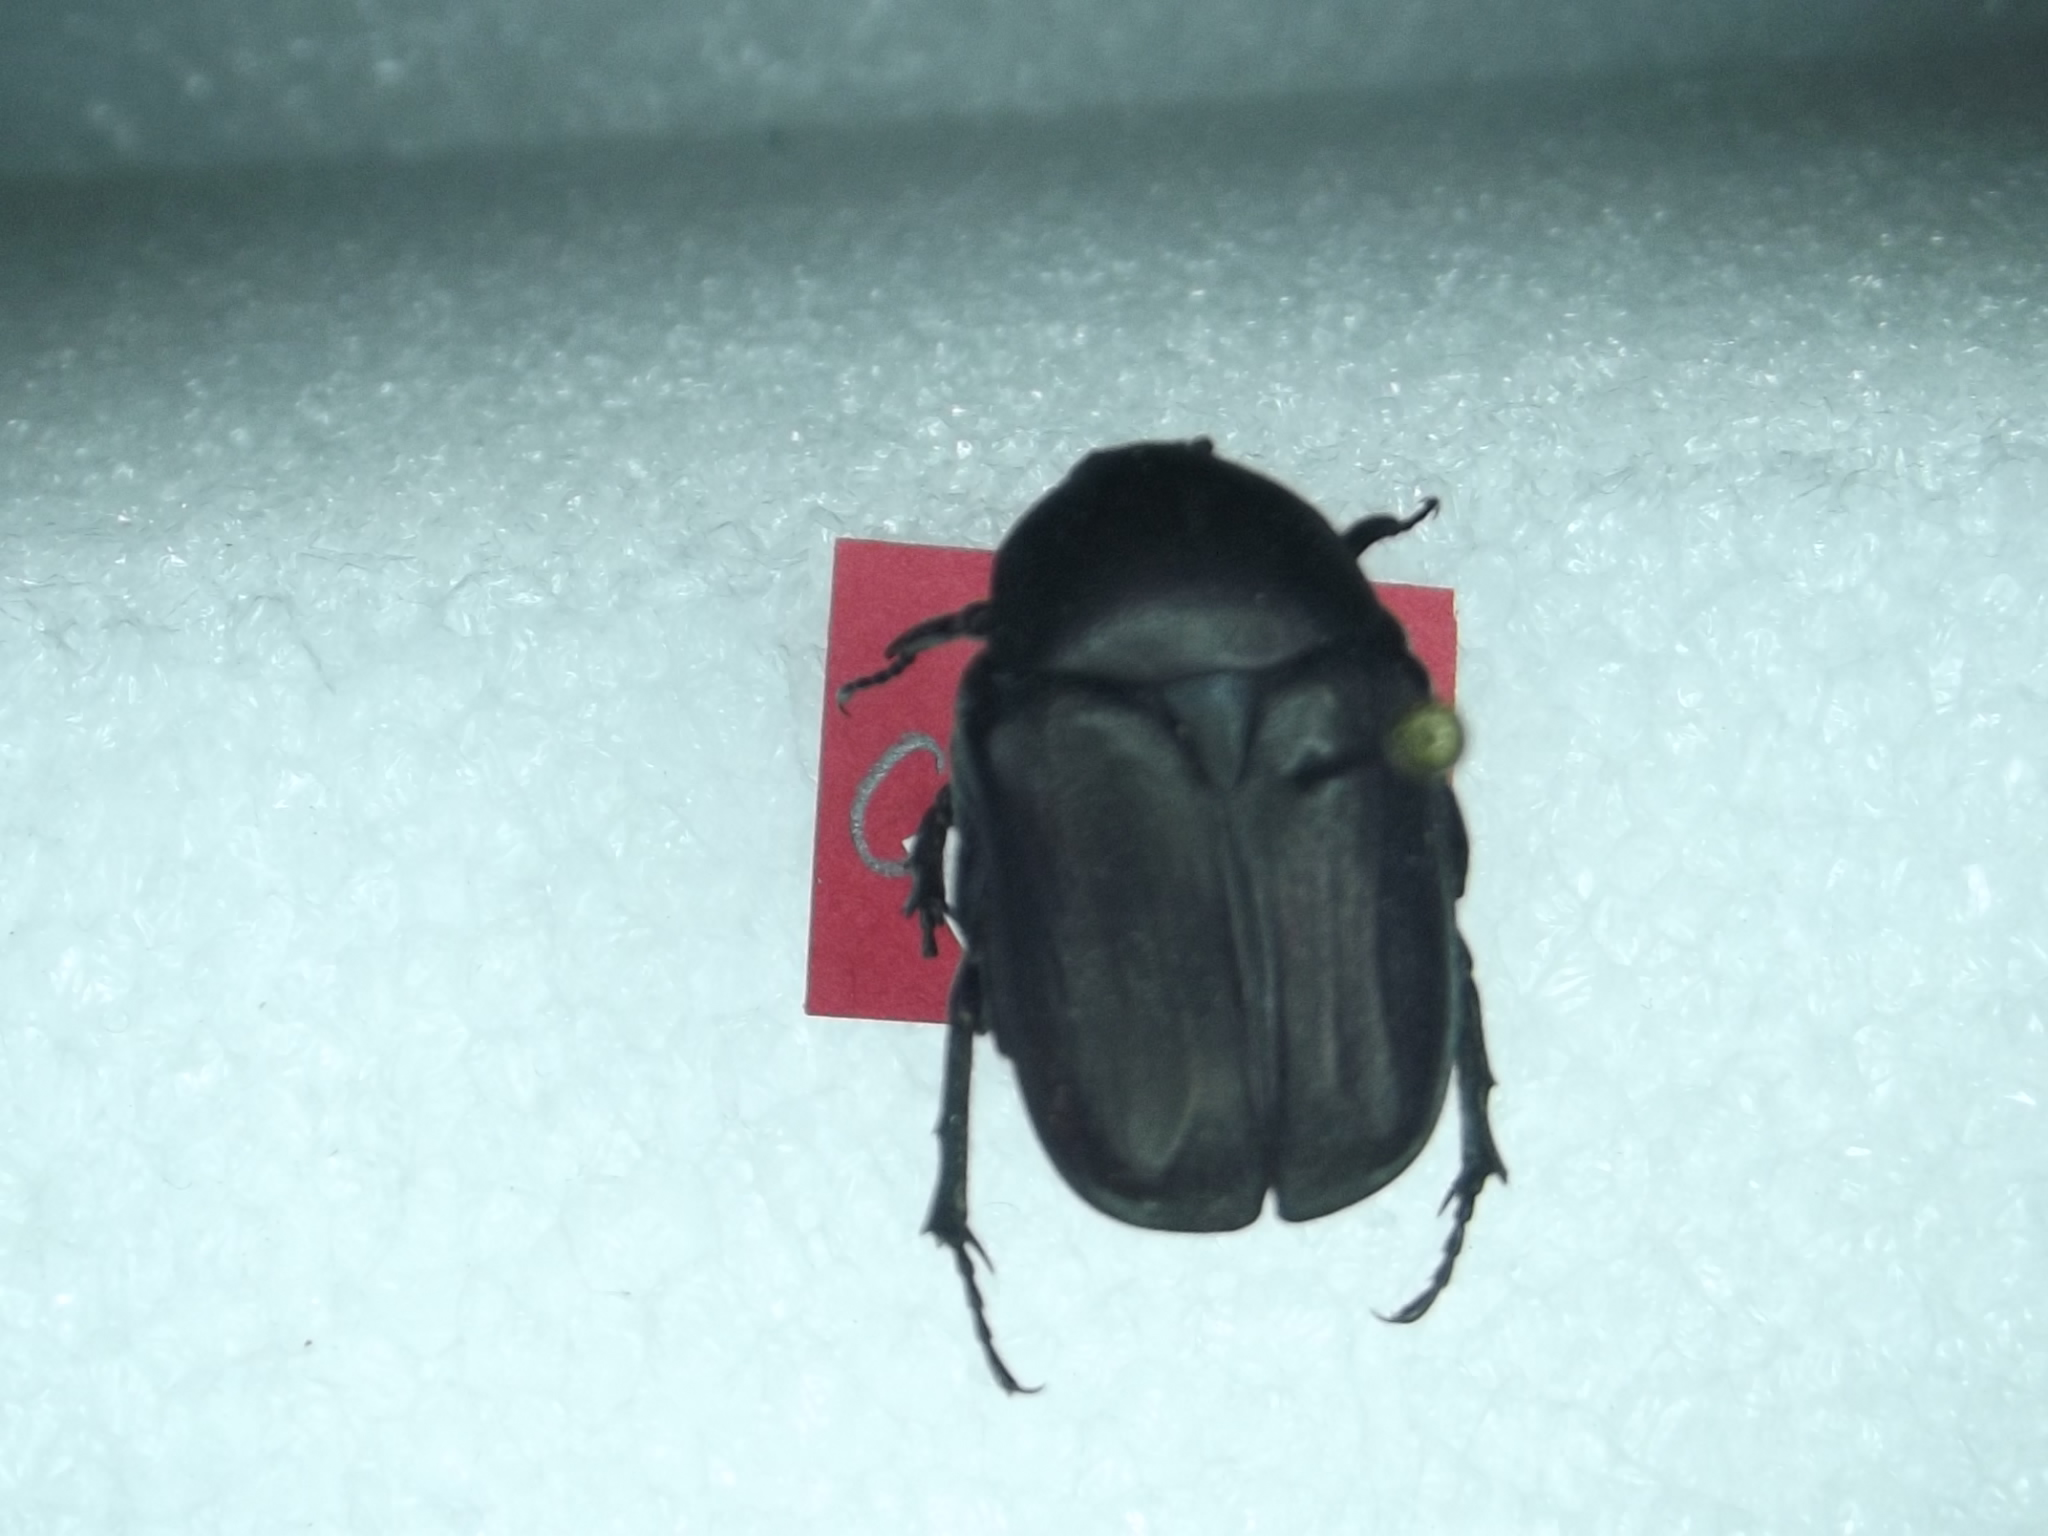Protaetia_vidua: (829, 387, 1596, 1409)
